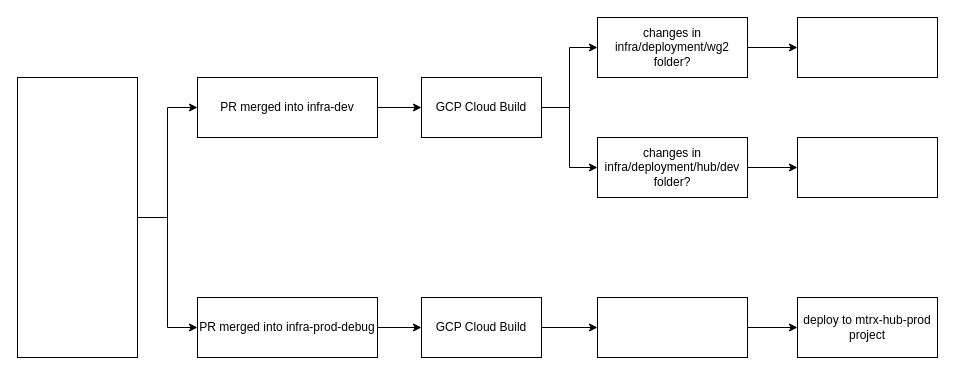
Image size: 955x375. Some labels were removed from this diagram. The box of each missing label's shape, as (x1, y1, x2, y2) in pixels:
changes in infra/deployment/hub/prod folder?: (596, 296, 748, 358)
deploy to mtrx-hub-dev project: (796, 136, 938, 198)
deploy to mtrx-wg2-modeling-dev project: (796, 16, 938, 78)
Github: (16, 76, 138, 358)
